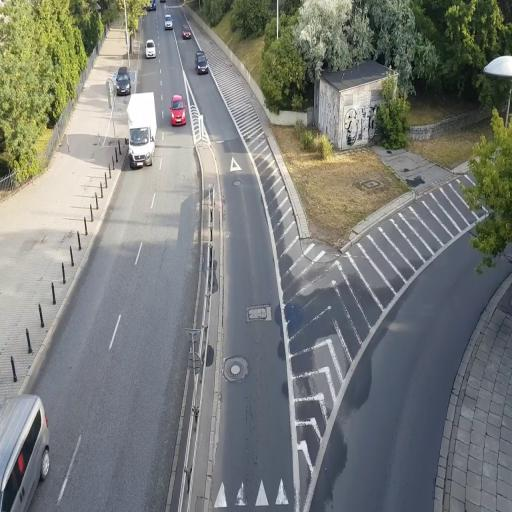vehicle: (0, 391, 50, 509), (127, 91, 157, 169), (128, 92, 156, 169), (170, 93, 187, 126), (114, 68, 132, 95), (194, 52, 210, 74), (144, 40, 156, 59), (164, 15, 172, 30), (182, 26, 191, 39)
